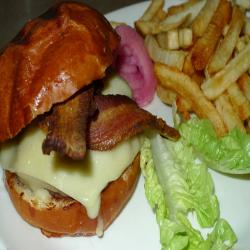burger: (2, 2, 153, 241)
fries: (146, 2, 250, 127)
salad: (138, 118, 249, 249)
